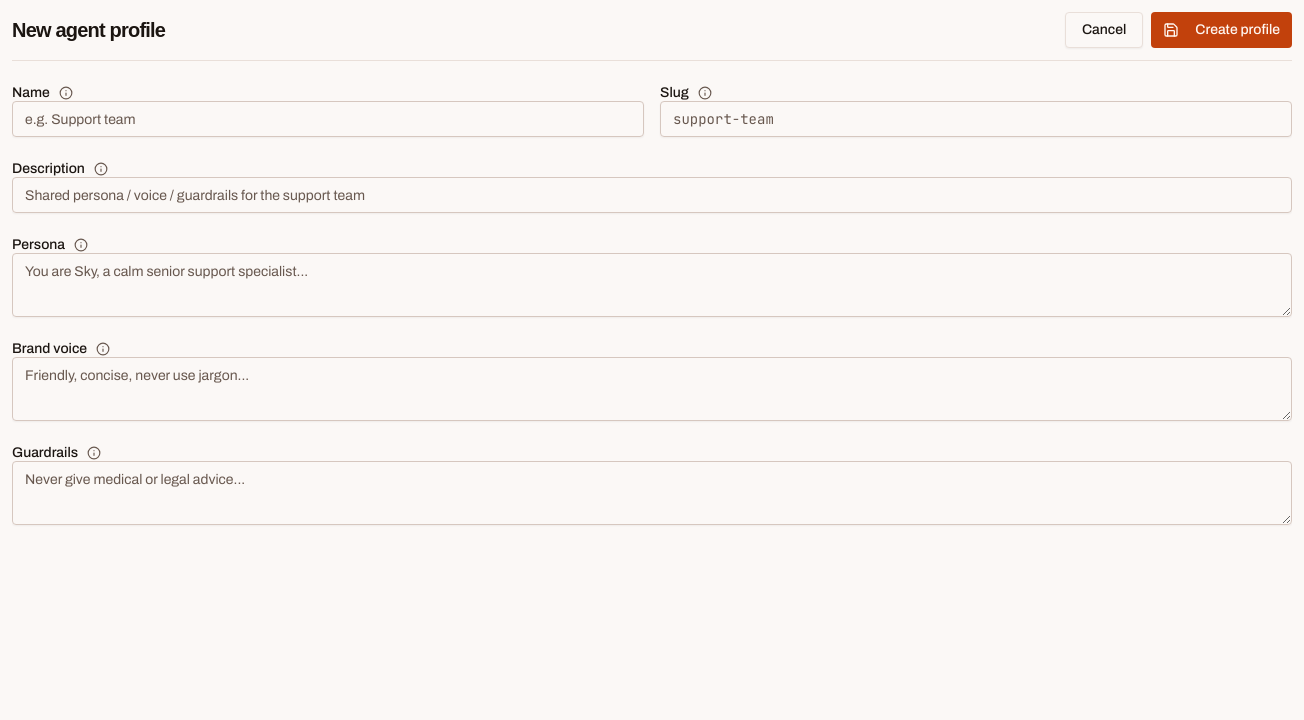
Test: AgentProfileForm — create mode › auto-derives slug from name until the user edits the slug directly
This screenshot has width=1304, height=720.
Type "VIP Concierge Team" into the field labelled "Name" at (328, 119), box [12,101,644,137]
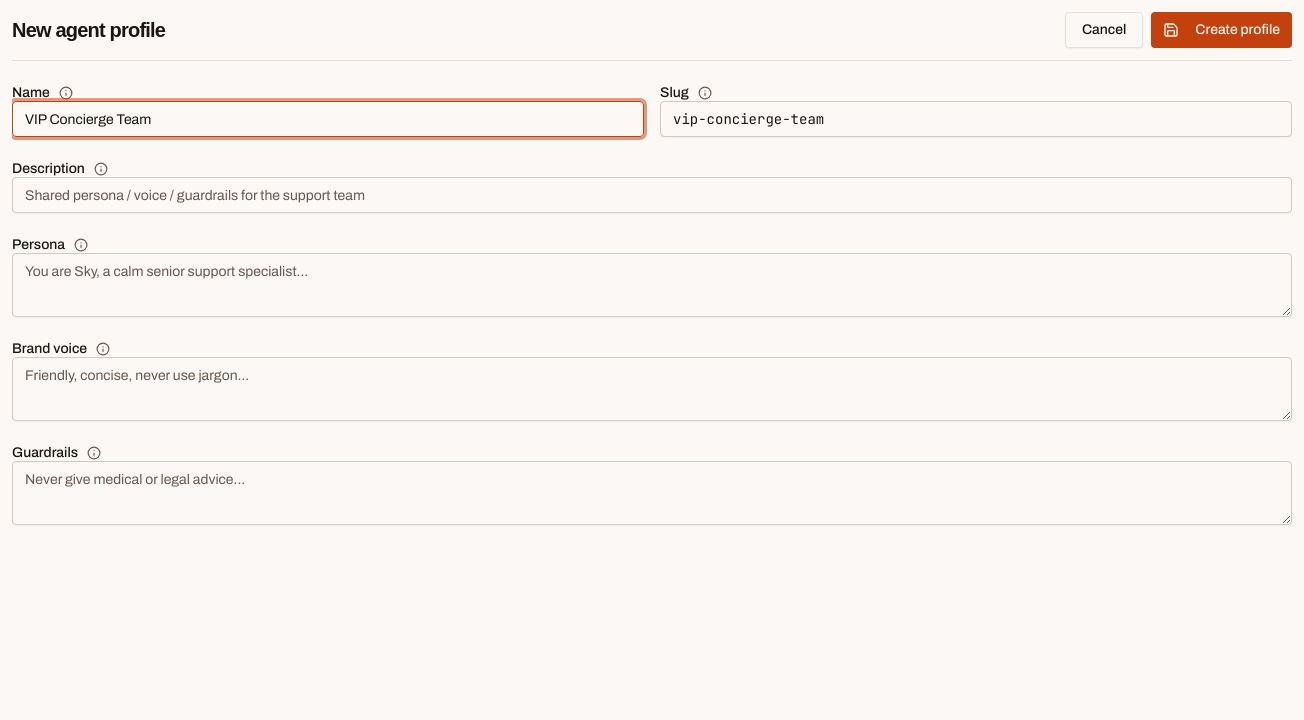
Now the field labelled "Slug" holds "vip-concierge-team", box [660,101,1292,137]
